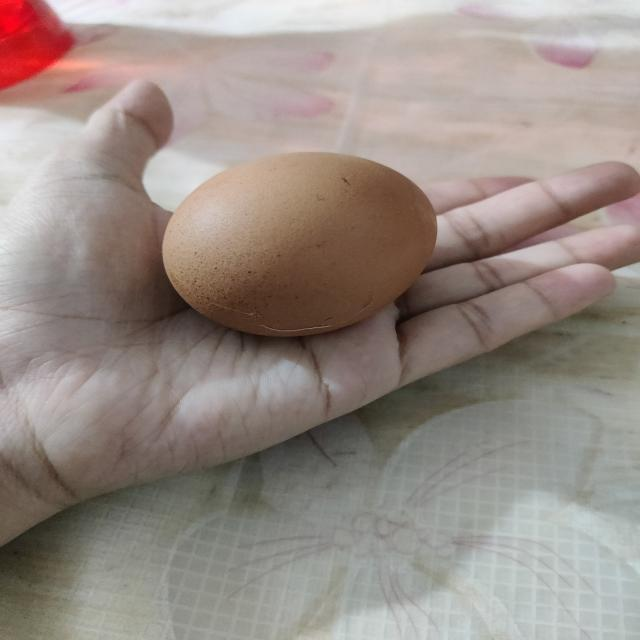egg: (161, 144, 447, 342)
